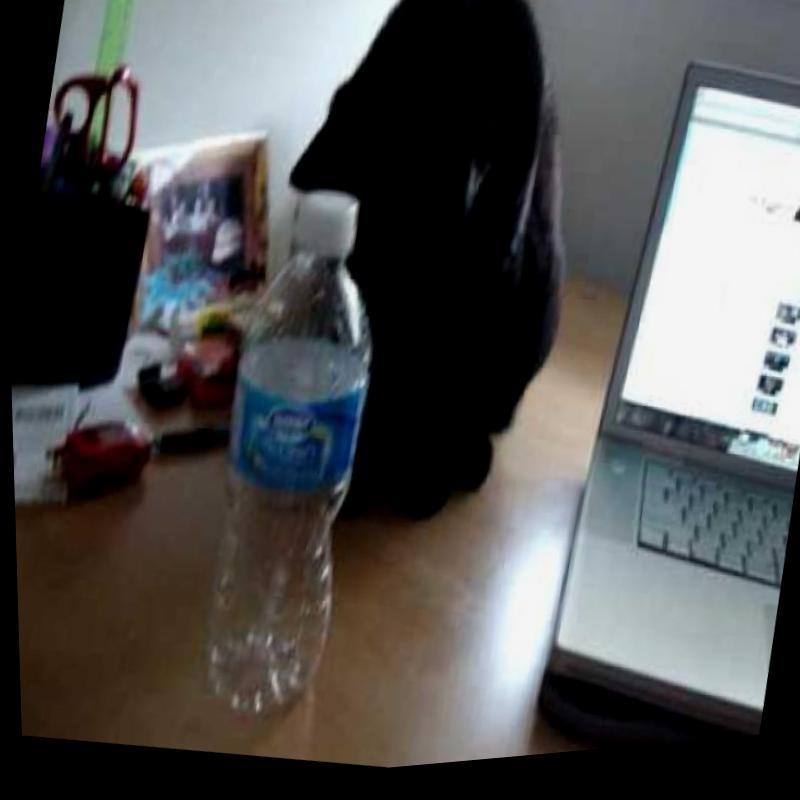botella: (161, 176, 410, 739)
